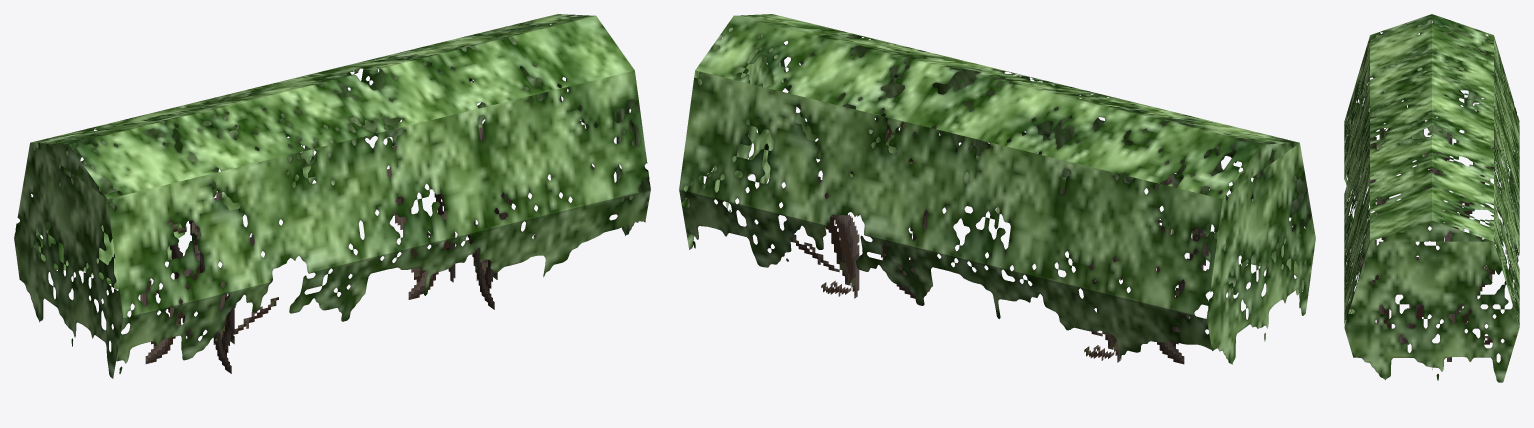
Rendered from bush_long_roots_summer.fbx.
The picture shows the model from 3 angles, left to right: view 1: azimuth 30°, elevation 25°; view 2: azimuth 150°, elevation 25°; view 3: azimuth 270°, elevation 25°; orthographic projection. The views are drawn at different scales.
Parts seen in each view (by area): view 1: bush_long_roots_summer; view 2: bush_long_roots_summer; view 3: bush_long_roots_summer.
Boxes of the visible parts, x1=… form: bush_long_roots_summer: x1=14, y1=14, x2=650, y2=378; bush_long_roots_summer: x1=679, y1=14, x2=1315, y2=364; bush_long_roots_summer: x1=1344, y1=14, x2=1519, y2=382.
Size of the model in its own units: 201 by 87.65 by 71.91.
2 materials, 2 textured.
